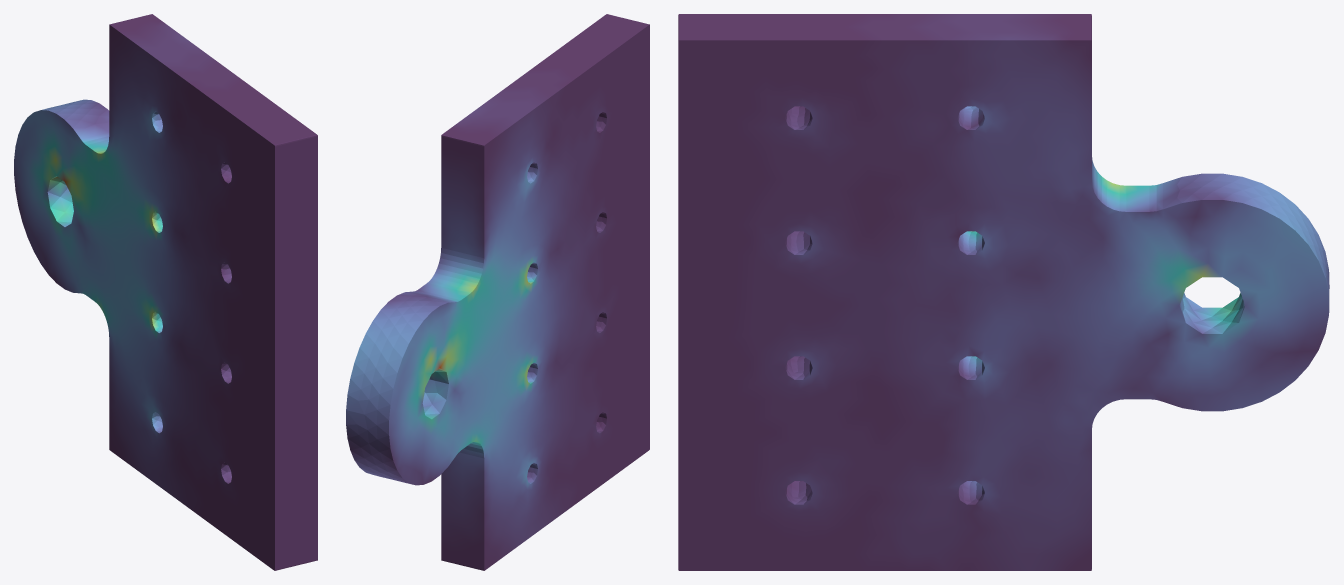
Rendered from CAD_W-FIT-MS.glb.
3 renders of one model, left to right at view 1: azimuth 30°, elevation 25°; view 2: azimuth 150°, elevation 25°; view 3: azimuth 270°, elevation 25°, orthographic. The views are drawn at different scales.
Visible parts, largest first — view 1: geometry_0; view 2: geometry_0; view 3: geometry_0.
Part boxes in pixels (x1=…): geometry_0: x1=14, y1=14, x2=317, y2=570; geometry_0: x1=346, y1=14, x2=649, y2=570; geometry_0: x1=678, y1=14, x2=1329, y2=570.
Size of the model in its own units: 0.018 by 0.17 by 0.189.
